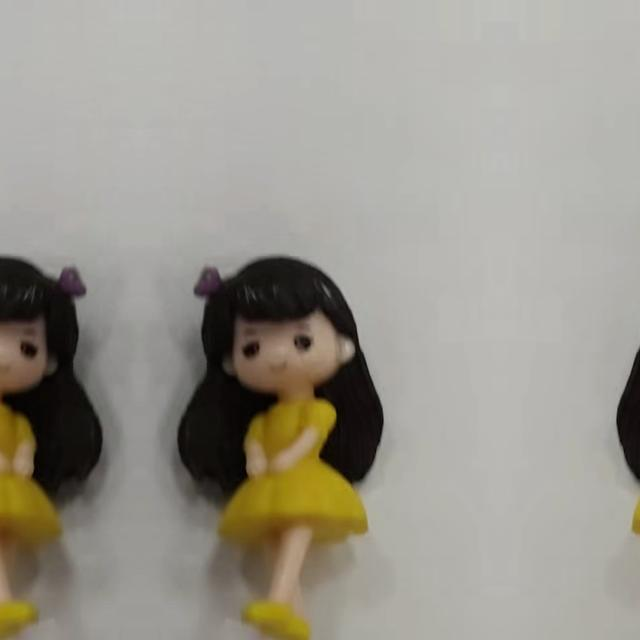woman dress: (228, 389, 368, 639), (0, 389, 52, 639), (632, 389, 640, 639)
woman head: (183, 248, 377, 399), (0, 248, 97, 399), (623, 248, 640, 399)
